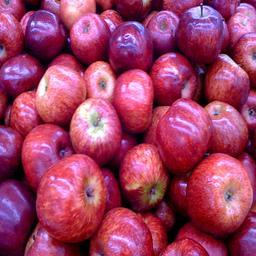apple: (37, 152, 106, 242), (184, 154, 253, 237), (156, 99, 211, 174), (67, 97, 122, 169), (20, 124, 73, 187), (87, 207, 155, 256), (120, 143, 169, 211), (174, 4, 226, 65), (36, 63, 86, 125), (150, 52, 198, 106), (203, 101, 249, 156), (114, 69, 154, 132), (203, 54, 249, 108), (1, 178, 35, 249), (67, 13, 110, 65), (108, 22, 152, 72), (25, 10, 67, 62), (1, 54, 42, 96), (9, 90, 44, 136), (230, 29, 256, 88), (147, 11, 180, 52), (83, 60, 116, 101), (1, 6, 24, 63), (1, 126, 23, 182)
